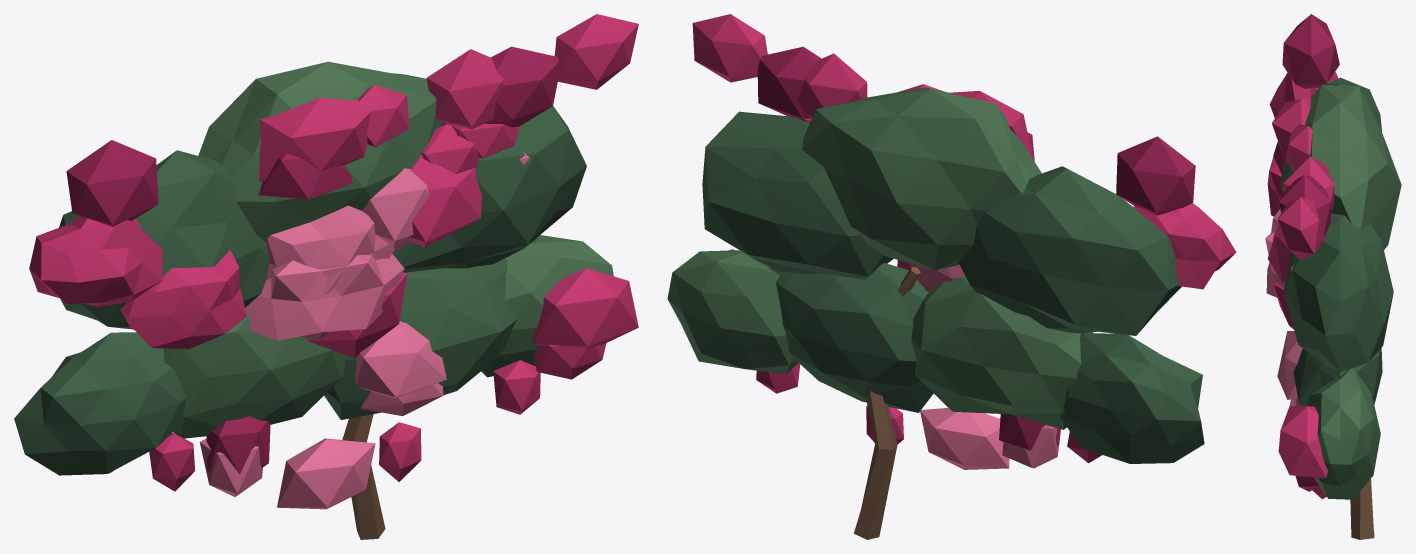
File: bougainvillea_wall.glb
3 renders of one model, left to right at view 1: azimuth 30°, elevation 25°; view 2: azimuth 150°, elevation 25°; view 3: azimuth 270°, elevation 25°, orthographic. The views are drawn at different scales.
Parts seen in each view (by area): view 1: bougainvillea_wall.001; view 2: bougainvillea_wall.001; view 3: bougainvillea_wall.001.
Boxes of the visible parts, x1,y1,x2,y2 form: bougainvillea_wall.001: [14, 14, 638, 539]; bougainvillea_wall.001: [667, 14, 1236, 539]; bougainvillea_wall.001: [1265, 14, 1401, 539].
Bounding box in the file's own units: 3.17 × 2.55 × 0.7515.
Materials: 1 (1 with a texture image).
